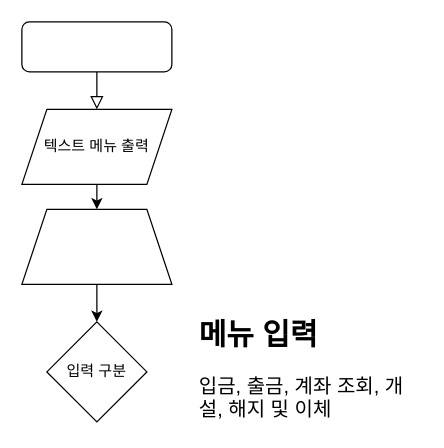
This 444x448 diagram has some shape labels left out. The shapes that lost their labels are listed below. From the top down, each one's box as (x1, y1, x2, y2) in pixels, then its label:
(21, 21, 172, 72): 실행
(21, 208, 172, 284): 메뉴 입력
